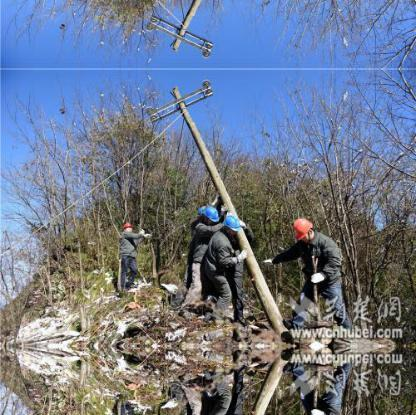helmet: (291, 217, 314, 242), (199, 206, 220, 225), (221, 215, 242, 233), (122, 222, 136, 233)
